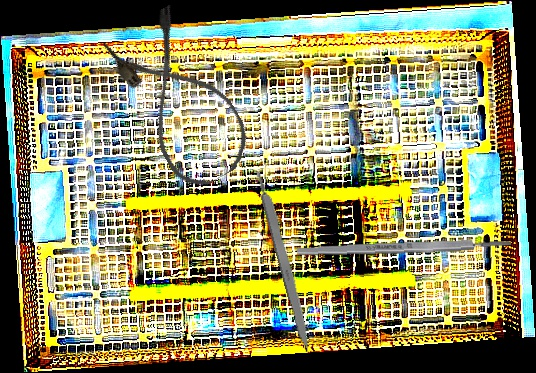Cannula: (99, 2, 262, 197)
Scalpel Handle: (253, 167, 316, 354), (296, 237, 512, 258)
